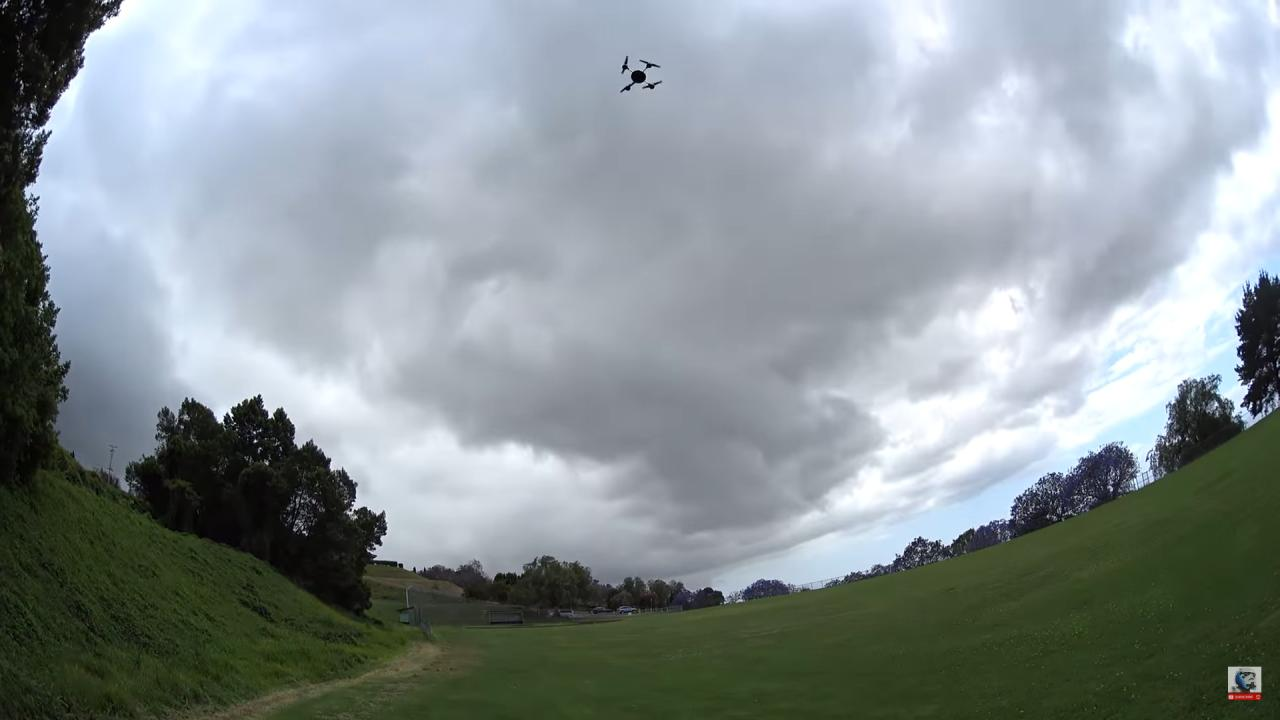Drone: (612, 44, 671, 102)
